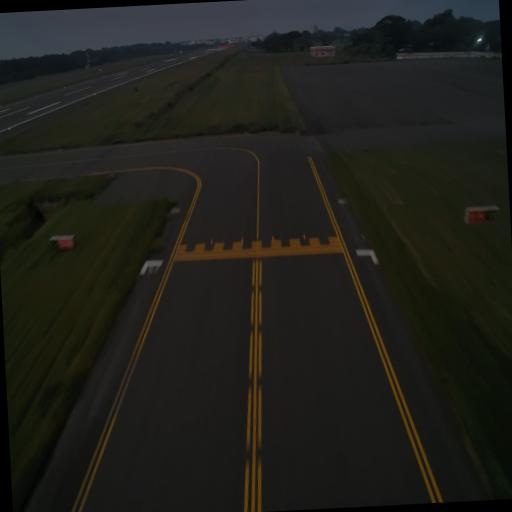on: (208, 234, 216, 249), (238, 233, 246, 246), (269, 234, 276, 244), (302, 230, 308, 241)
